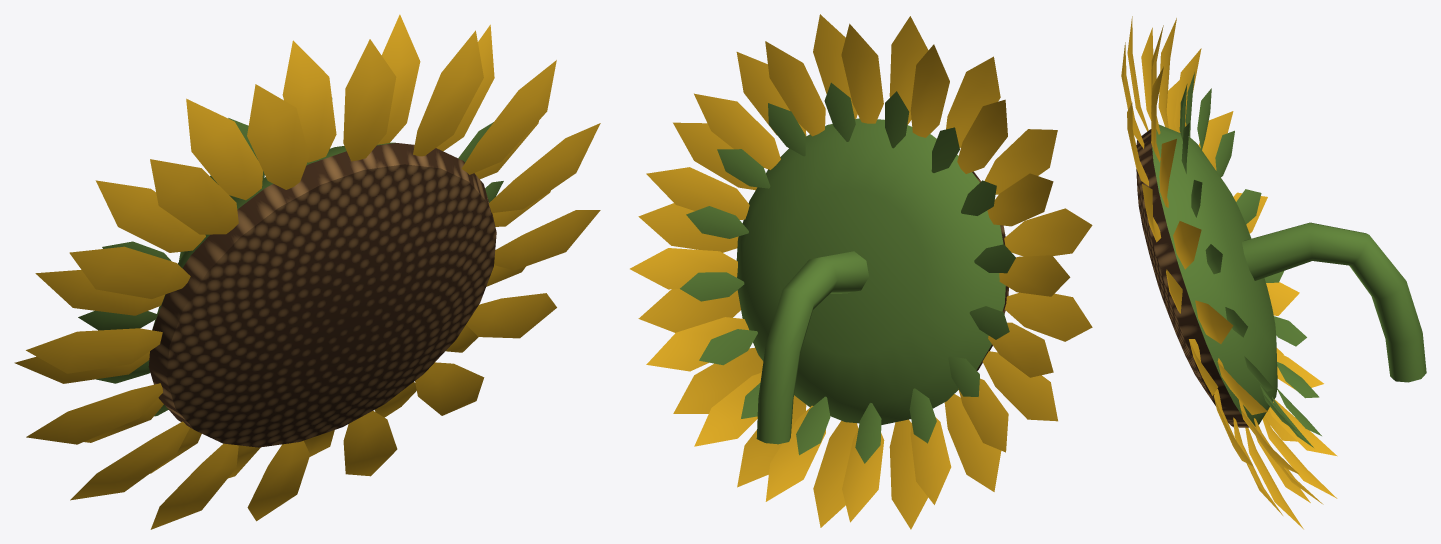
Rendered from sunflower_head.glb.
The picture shows the model from 3 angles, left to right: view 1: azimuth 30°, elevation 25°; view 2: azimuth 150°, elevation 25°; view 3: azimuth 270°, elevation 25°; orthographic projection. The views are drawn at different scales.
Visible parts, largest first — view 1: sunflower_head; view 2: sunflower_head; view 3: sunflower_head.
Boxes of the visible parts, <box> form: sunflower_head: <box>14,14,600,529</box>; sunflower_head: <box>630,14,1092,529</box>; sunflower_head: <box>1121,16,1426,529</box>.
Size of the model in its own units: 0.252 by 0.2368 by 0.1415.
3 materials, 1 textured.
